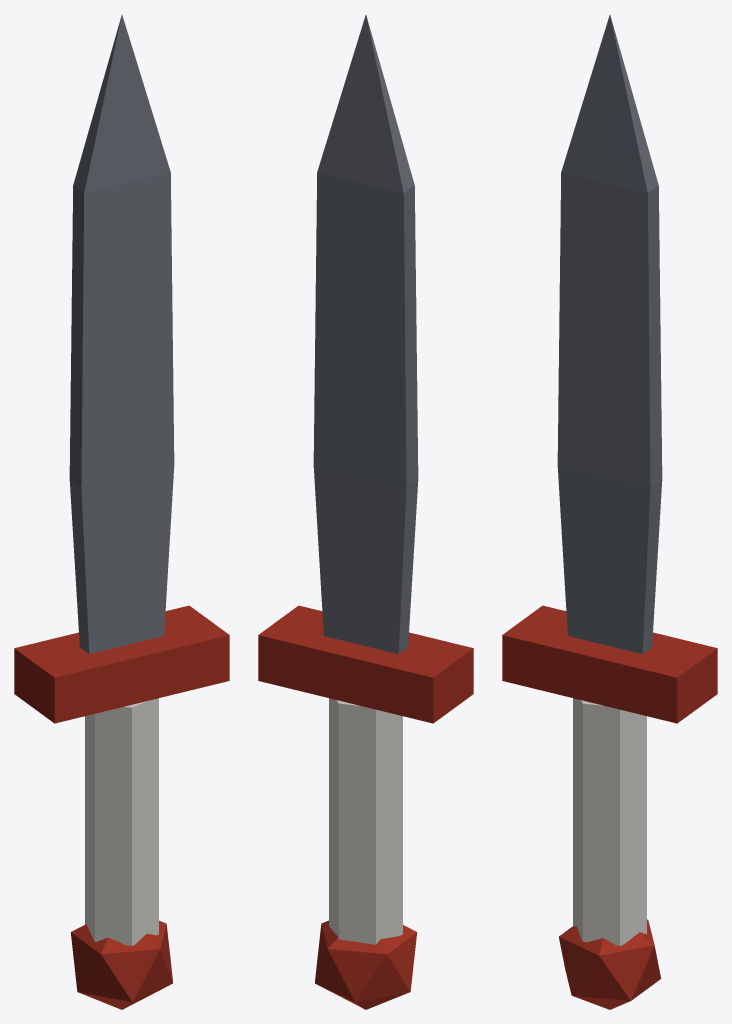
File: weapon_twin_khopesh.glb
3 views of the same model, side by side, from view 1: azimuth 30°, elevation 25°; view 2: azimuth 150°, elevation 25°; view 3: azimuth 330°, elevation 25° (orthographic).
Visible parts, largest first — view 1: elephant_weapon_twin_khopesh; view 2: elephant_weapon_twin_khopesh; view 3: elephant_weapon_twin_khopesh.
Boxes of the visible parts, box(x1,y1,x2,y2) form: elephant_weapon_twin_khopesh: box(14, 15, 229, 1009); elephant_weapon_twin_khopesh: box(258, 15, 473, 1009); elephant_weapon_twin_khopesh: box(502, 15, 717, 1009).
Size of the model in its own units: 0.12 by 0.6522 by 0.0582.
